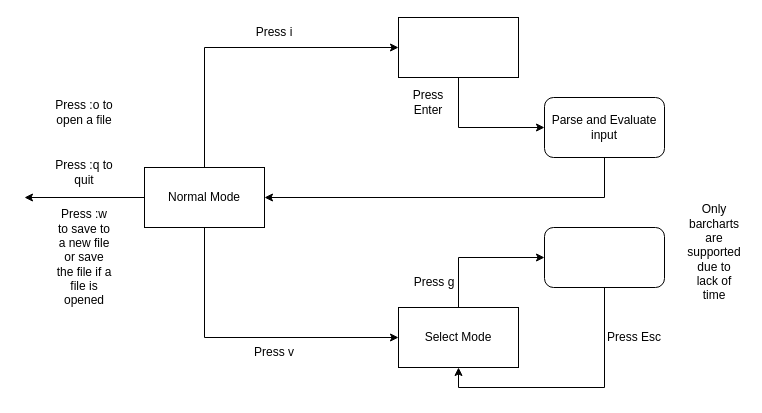
Image size: 762x413. Some labels were removed from this diagram. Here are the shapes that lost their labels. From the top down, the centre of each, then its label:
the point at 458,47: Insert Mode
the point at 604,257: Plot barchart of the selected data
